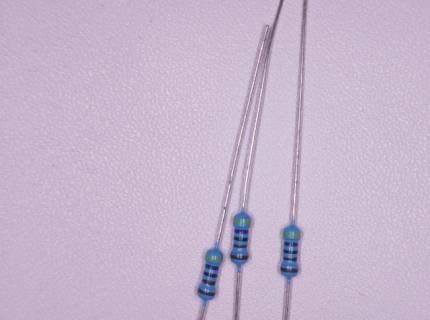Black band: (203, 271, 218, 278), (234, 236, 248, 242), (284, 249, 298, 254)
Brown band: (198, 288, 216, 297), (230, 254, 248, 260), (280, 267, 298, 273), (202, 279, 216, 286), (283, 257, 297, 262), (234, 244, 247, 248)
Violet band: (205, 263, 219, 271), (284, 241, 298, 247), (235, 229, 248, 234)
Yellow band: (205, 254, 223, 262), (233, 219, 251, 224), (283, 232, 301, 237)
